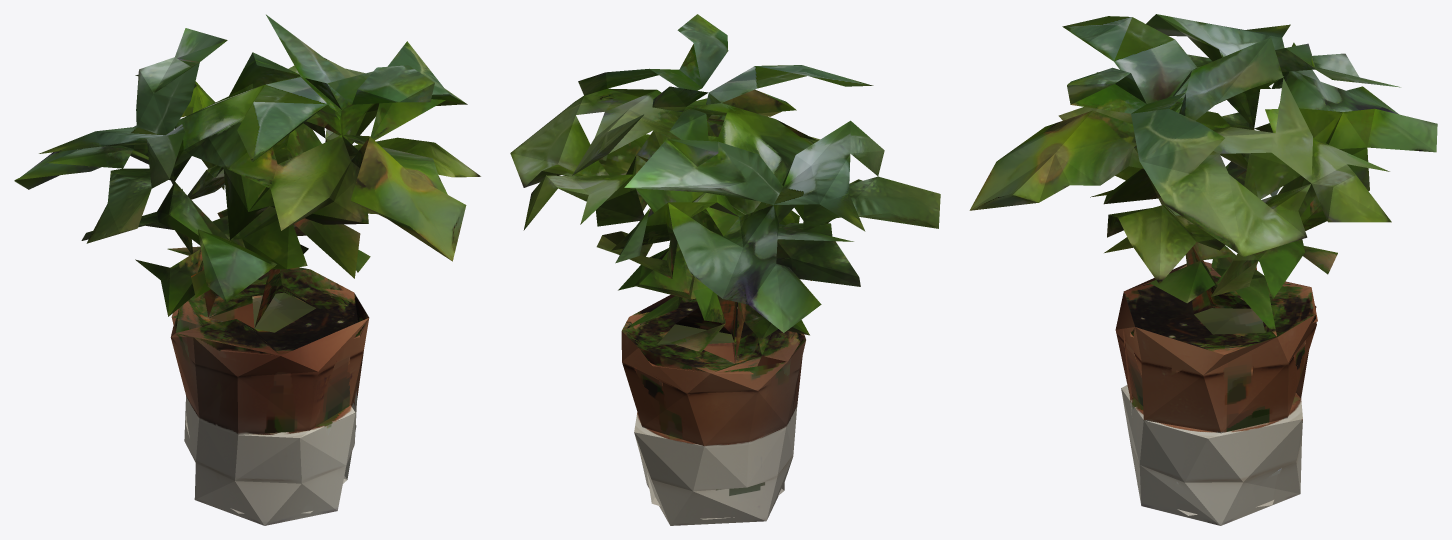
Rendered from Tree_simple.glb.
3 renders of one model, left to right at view 1: azimuth 30°, elevation 25°; view 2: azimuth 150°, elevation 25°; view 3: azimuth 270°, elevation 25°, orthographic. The views are drawn at different scales.
Visible parts, largest first — view 1: world; view 2: world; view 3: world.
Boxes of the visible parts, x1,y1,x2,y2 form: world: [14, 14, 480, 525]; world: [510, 14, 940, 525]; world: [969, 14, 1437, 525].
Size of the model in its own units: 0.9583 by 0.9985 by 0.912.
1 material, 1 textured.
